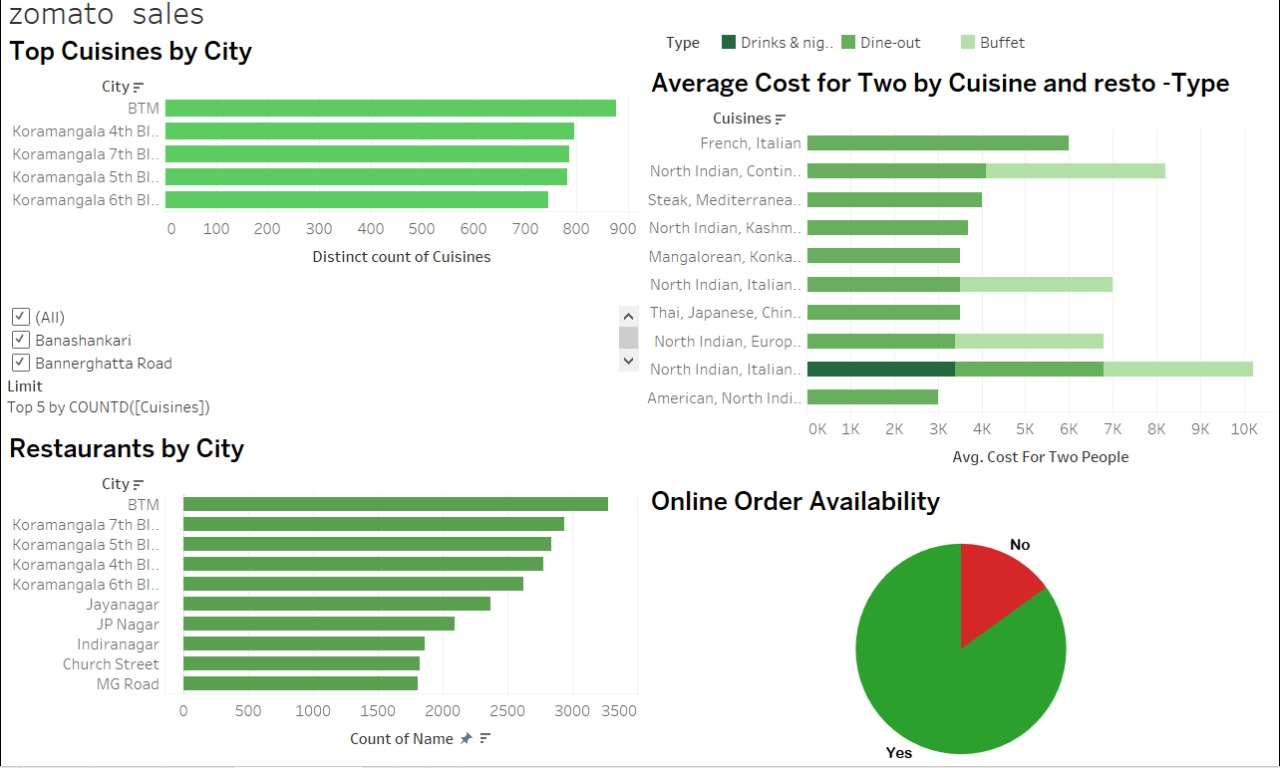

Layout of this report page (visuals, bound fields, positions):
{"tool":"tableau","page":{"name":"zomato_sales","canvas":[1300,800],"ordinal":0},"visuals":[{"type":"title","box":[9,9,1282,32]},{"type":"worksheet","title":"Sheet 2","mark":"Bar","rows":["city"],"cols":["cuisines"],"box":[9,41,644,272]},{"type":"legend","title":"Sheet 5","param":"[federated.04g53zj1ja6o3b16a1i931pde30s].[none:type:nk]","box":[653,41,638,32]},{"type":"worksheet","title":"Sheet 5","mark":"Bar","rows":["cuisines"],"cols":["cost_for_two_people"],"box":[653,73,638,420]},{"type":"filter","title":"Sheet 2","param":"[federated.04g53zj1ja6o3b16a1i931pde30s].[none:city:nk]","box":[9,313,644,127]},{"type":"worksheet","title":"Sheet 1","mark":"Bar","rows":["city"],"cols":["name"],"box":[9,440,644,351]},{"type":"worksheet","title":"Sheet 3","mark":"Pie","box":[653,493,638,298]}]}

Visuals, with their boxes in screenshot pixels (x1, y1, x2, y2), scaled from the page's 1300x800 canvas onto the 1280x768 screenshot:
title: (left=9, top=9, right=1271, bottom=39)
"Sheet 2" worksheet (Bar marks): (left=9, top=39, right=643, bottom=300)
"Sheet 5" legend: (left=643, top=39, right=1271, bottom=70)
"Sheet 5" worksheet (Bar marks): (left=643, top=70, right=1271, bottom=473)
"Sheet 2" filter: (left=9, top=300, right=643, bottom=422)
"Sheet 1" worksheet (Bar marks): (left=9, top=422, right=643, bottom=759)
"Sheet 3" worksheet (Pie marks): (left=643, top=473, right=1271, bottom=759)
